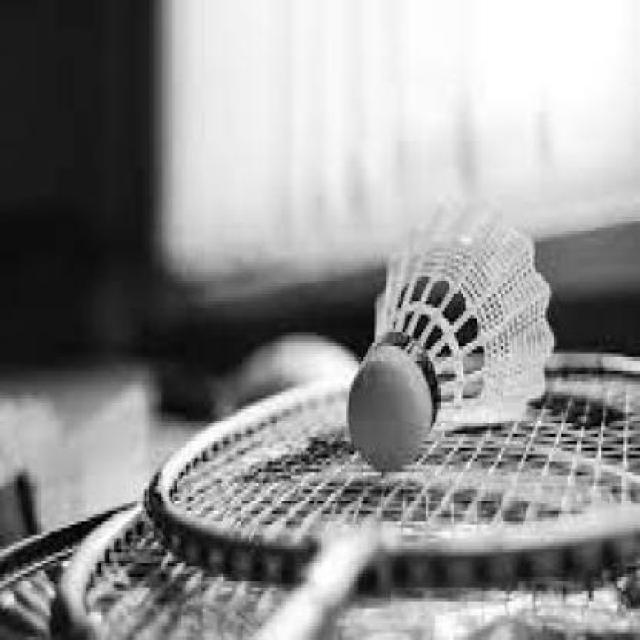Shuttlecock: (350, 202, 556, 466)
